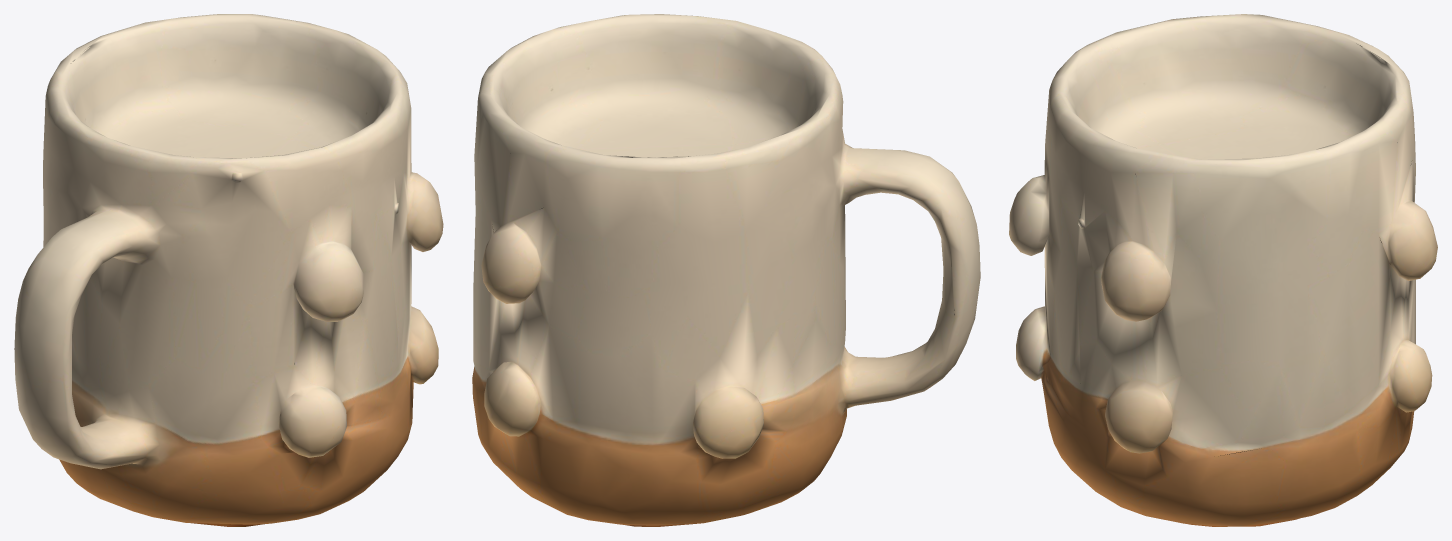
File: mug.glb
3 renders of one model, left to right at view 1: azimuth 30°, elevation 25°; view 2: azimuth 150°, elevation 25°; view 3: azimuth 270°, elevation 25°, orthographic.
Visible parts, largest first — view 1: low; view 2: low; view 3: low.
Part boxes in pixels (x1,y1,x2,y2): low: (14,14,443,526); low: (472,14,980,526); low: (1009,14,1437,526).
Size of the model in its own units: 0.9806 by 0.8553 by 0.856.
1 material, 1 textured.
